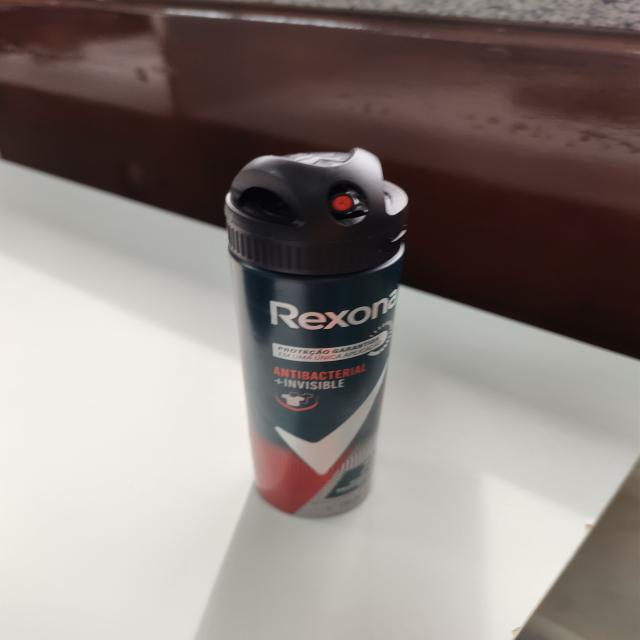Desodorante Azul: (224, 137, 432, 518)
